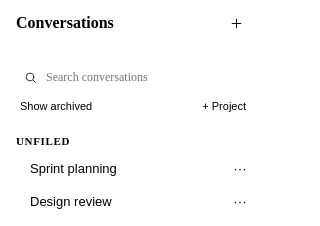
Test: Sidebar › AC-10.4: typing into search filters the list in real time to matching titles only
Expected: the text "Sprint planning" is shown, [30, 160, 117, 176]
Expected: the text "Design review" is shown, [30, 194, 112, 208]
Type "sprint" into the field with placeholder "Search conversations" at [143, 77], box [44, 68, 242, 86]
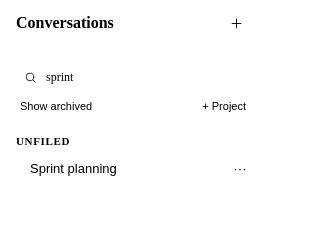
Expected: the text "Sprint planning" is shown, [30, 160, 117, 176]
Expected: the button "Design review" is gone
